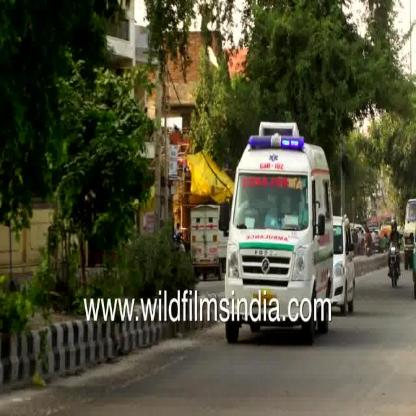priority: (222, 118, 338, 296)
